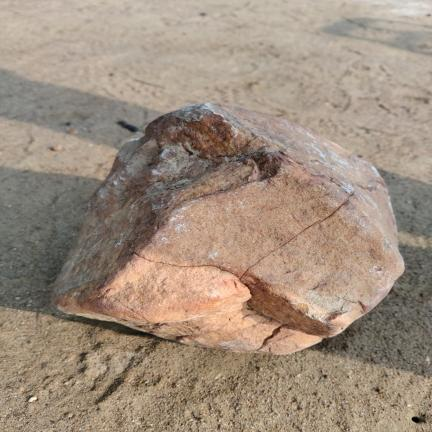Rocks: (54, 104, 403, 353), (28, 396, 37, 402)
